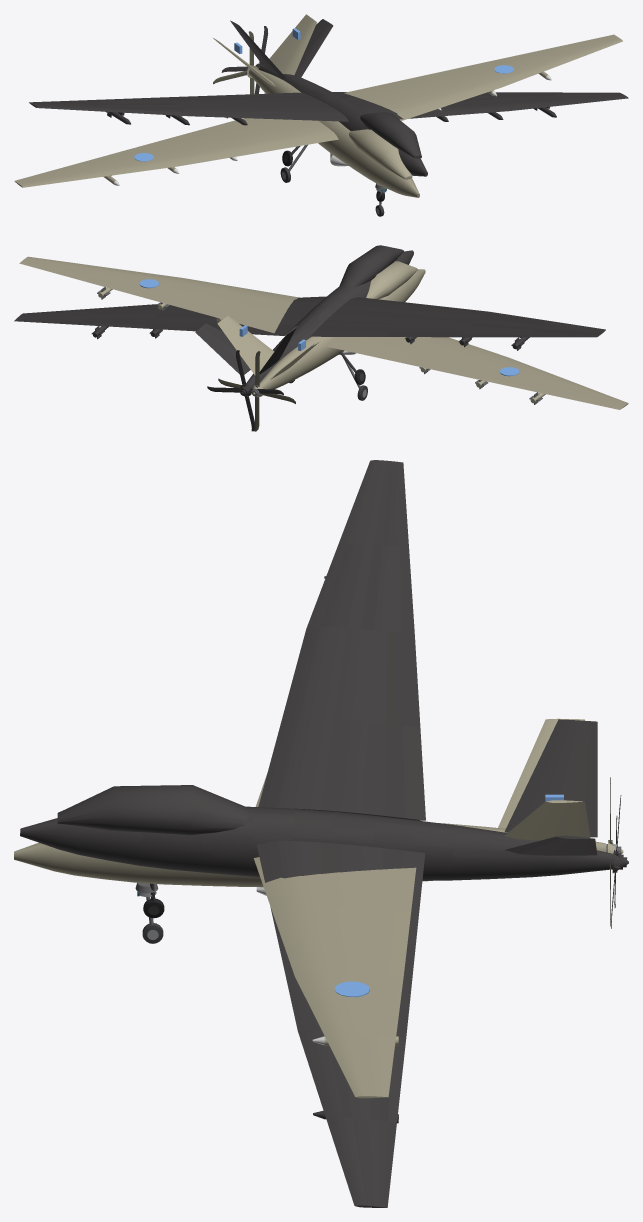
The model's file is drone__mq_9b_seaguardian.glb.
3 views of the same model, one above another, from view 1: azimuth 30°, elevation 25°; view 2: azimuth 150°, elevation 25°; view 3: azimuth 270°, elevation 25° (orthographic). The views are drawn at different scales.
Visible parts, largest first — view 1: Fuselage_Mesh, Wreck, Propeller_Mesh; view 2: Fuselage_Mesh, Wreck, Propeller_Mesh; view 3: Wreck, Fuselage_Mesh.
Part boxes in pixels (x1,y1,x2,y2): Fuselage_Mesh: (14,14,622,216); Wreck: (29,19,628,201); Propeller_Mesh: (213,31,259,94); Fuselage_Mesh: (19,256,628,409); Wreck: (14,245,605,431); Propeller_Mesh: (218,351,295,431); Wreck: (20,460,628,1207); Fuselage_Mesh: (14,718,605,1098).
Size of what is drawn, in the model's own units: 24.22 by 5.07 by 11.91.
